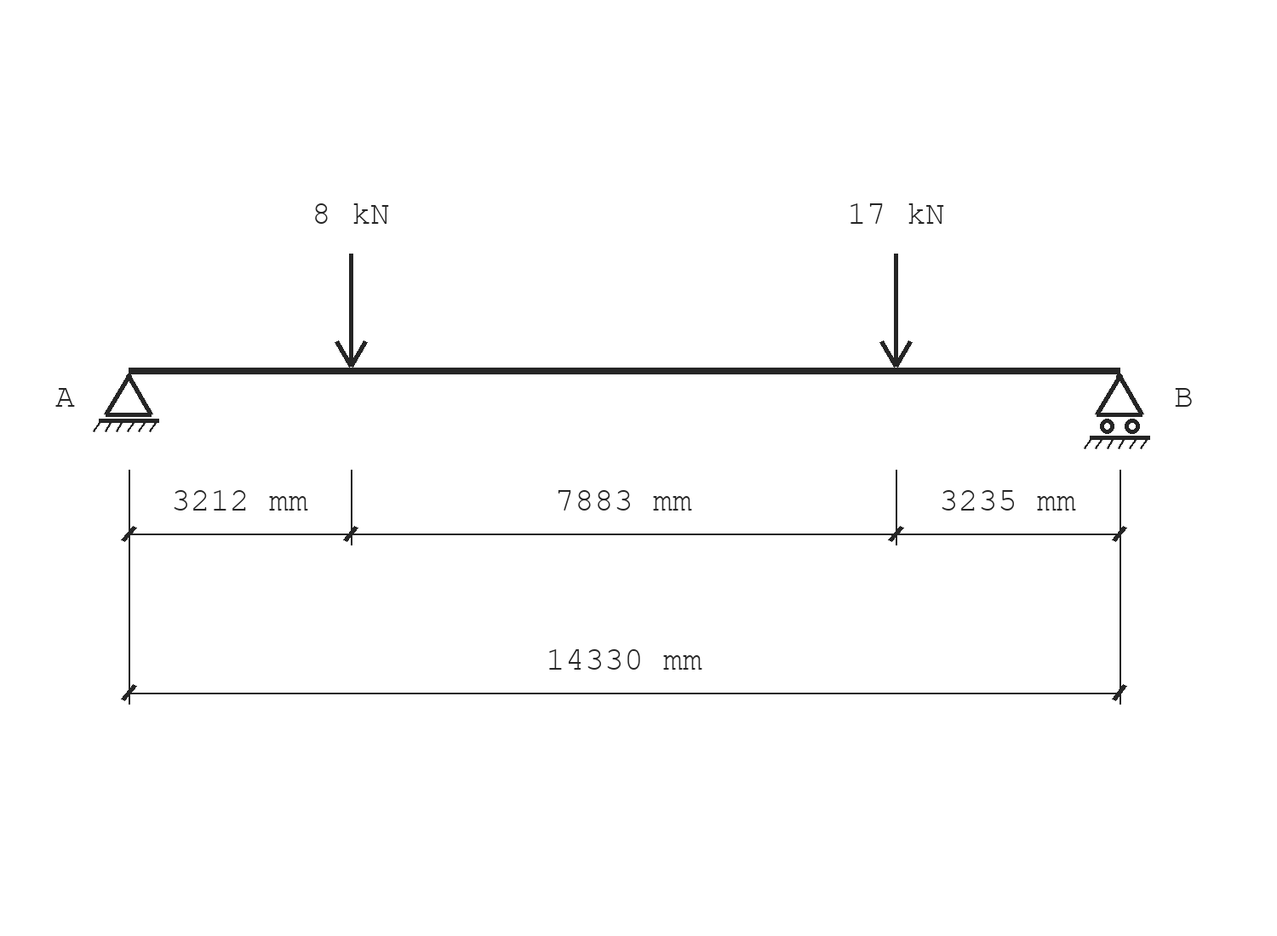pin_support: (93, 374, 159, 432)
point_load: (879, 254, 913, 368), (335, 254, 368, 368)
roller_support: (1084, 374, 1150, 449)
